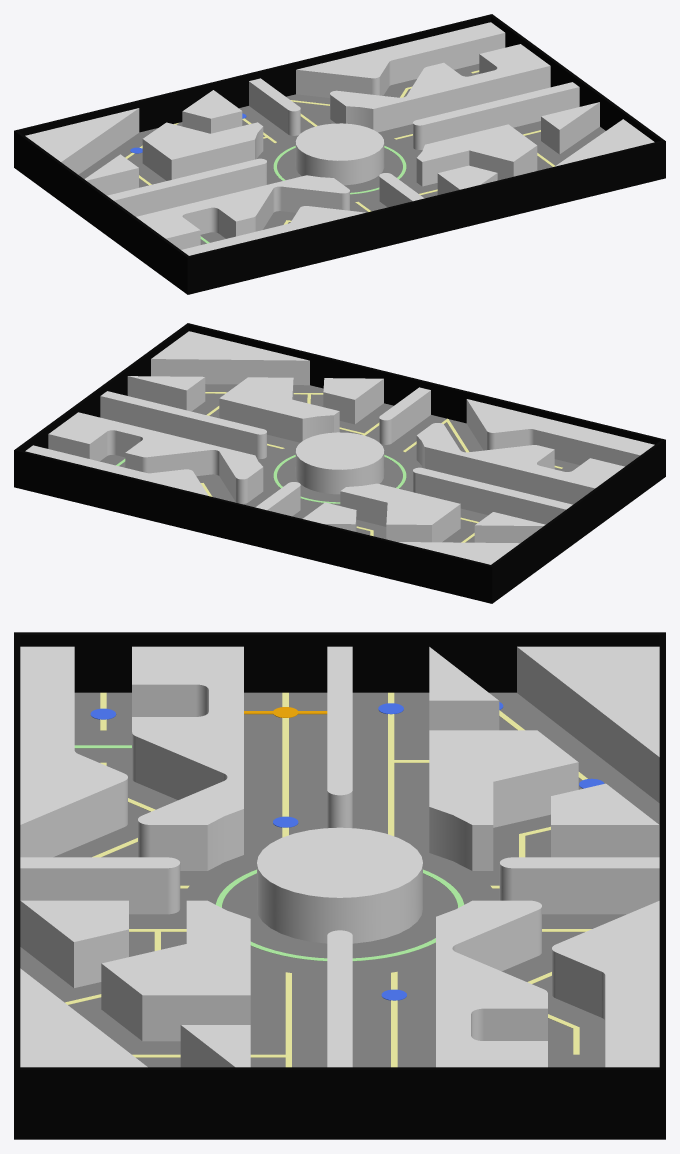
3 views of the same model, one above another, from view 1: azimuth 30°, elevation 25°; view 2: azimuth 150°, elevation 25°; view 3: azimuth 270°, elevation 25° (orthographic). The views are drawn at different scales.
Visible parts, largest first — view 1: Body1.004, Body1, Body1.001; view 2: Body1.004, Body1, Body1.001; view 3: Body1.004, Body1, Body1.001, Body2, Body9, Body8, Body4.
Part boxes in pixels (box(x1,y1,x2,y2)): Body1.004: box(25, 22, 654, 255); Body1: box(14, 14, 665, 294); Body1.001: box(78, 64, 605, 244); Body1.004: box(25, 331, 654, 564); Body1: box(14, 323, 665, 603); Body1.001: box(100, 384, 579, 542); Body1.004: box(20, 646, 659, 1067); Body1: box(14, 632, 665, 1139); Body1.001: box(20, 692, 659, 1067); Body2: box(388, 692, 587, 888); Body9: box(65, 929, 291, 1067); Body8: box(215, 869, 464, 961); Body4: box(282, 692, 288, 837).
Size of the model in its own units: 8.1 by 5.1 by 0.6.
